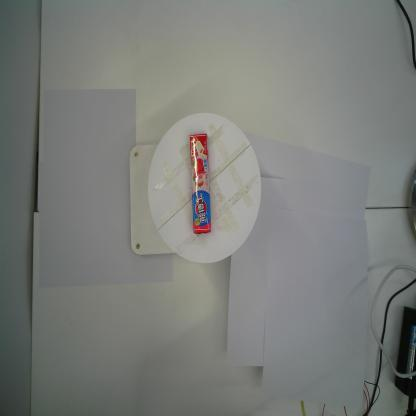Candy: (189, 132, 212, 236)
